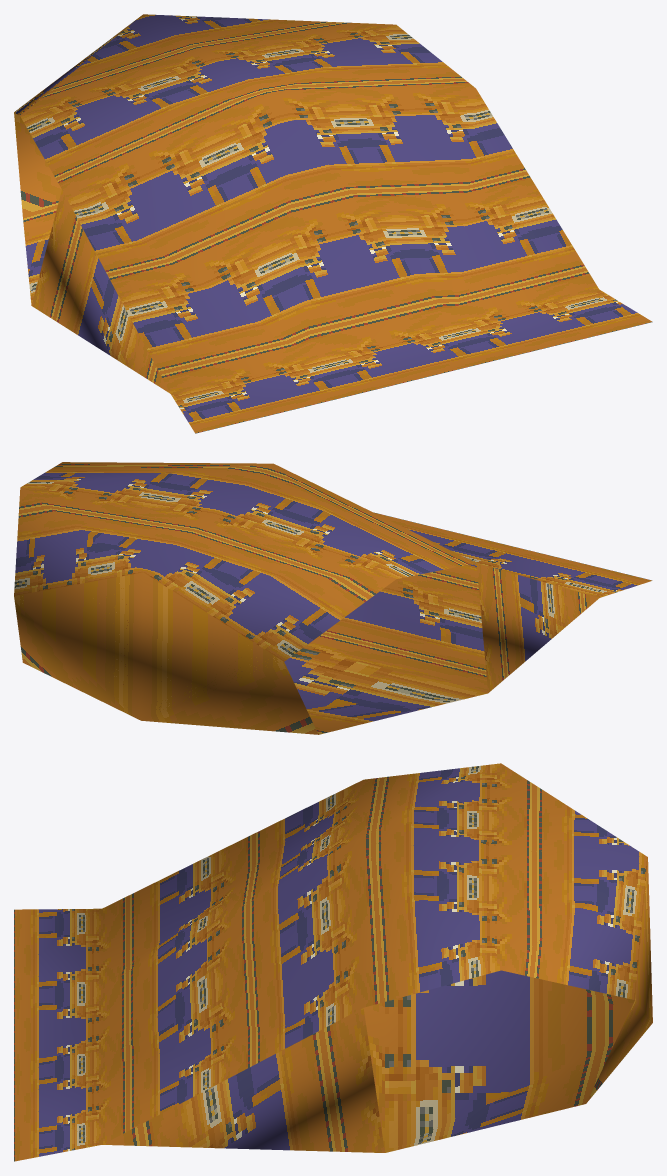
Rendered from 2554top000_c.gltf.
3 views of the same model, one above another, from view 1: azimuth 30°, elevation 25°; view 2: azimuth 150°, elevation 25°; view 3: azimuth 270°, elevation 25° (orthographic). The views are drawn at different scales.
Parts seen in each view (by area): view 1: 2554top000_c; view 2: 2554top000_c; view 3: 2554top000_c.
Part boxes in pixels (x1,y1,x2,y2): 2554top000_c: [14, 14, 652, 433]; 2554top000_c: [14, 462, 652, 734]; 2554top000_c: [14, 763, 652, 1161].
Bounding box in the file's own units: 0.7598 × 0.2717 × 0.814.
1 material, 1 textured.
